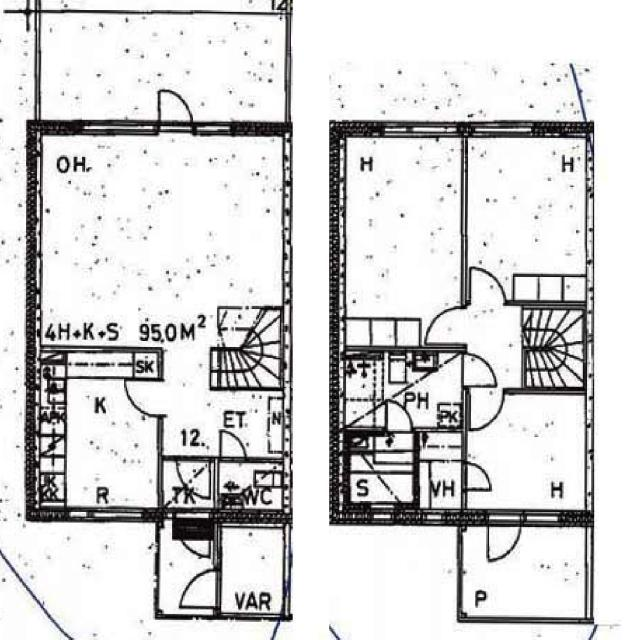door: (156, 83, 190, 132), (488, 509, 520, 561), (470, 262, 504, 306), (176, 503, 207, 550), (179, 564, 218, 600), (469, 388, 503, 429), (428, 308, 466, 344), (123, 375, 160, 411), (174, 452, 207, 492), (462, 354, 495, 385), (462, 462, 491, 490), (386, 401, 412, 432), (218, 425, 242, 457)
